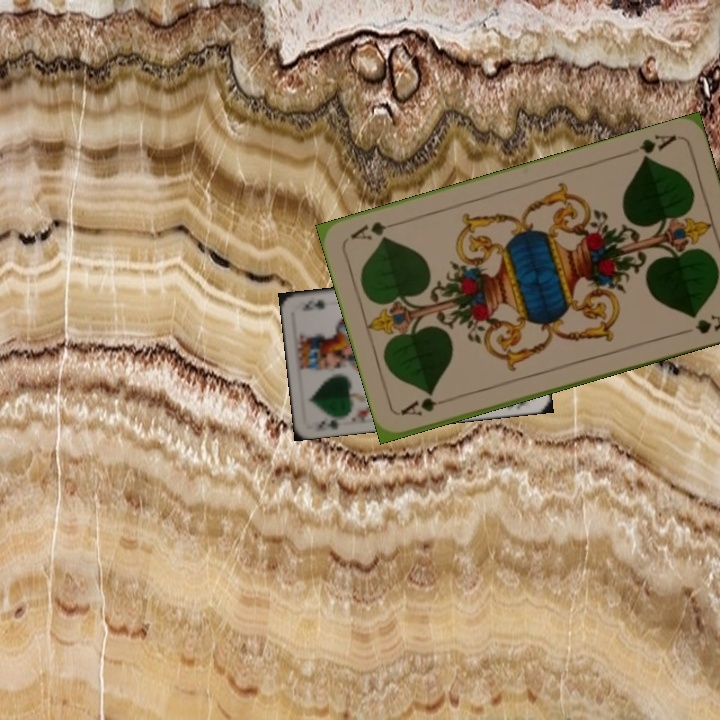GA: (396, 393, 455, 419), (635, 130, 679, 164)
GK: (315, 416, 341, 431)
